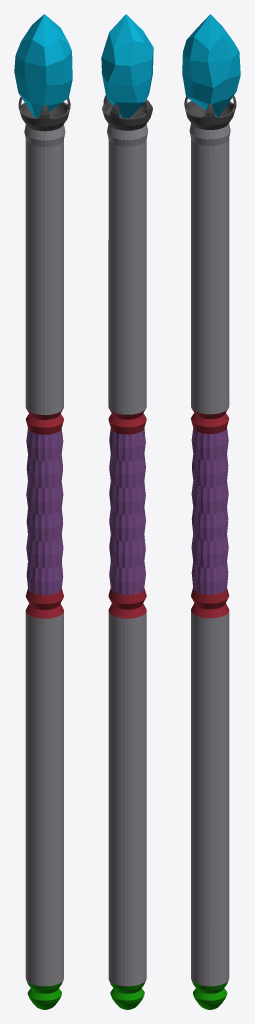
The model's file is uploads_files_887677_staff.fbx.
3 renders of one model, left to right at view 1: azimuth 90°, elevation 25°; view 2: azimuth 150°, elevation 25°; view 3: azimuth 270°, elevation 25°, orthographic.
Visible parts, largest first — view 1: Cylinder; view 2: Cylinder; view 3: Cylinder.
Part boxes in pixels (x1,y1,x2,y2): Cylinder: [14, 14, 72, 1009]; Cylinder: [101, 14, 153, 1009]; Cylinder: [182, 14, 240, 1009].
Bounding box in the file's own units: 4.59 × 90.57 × 4.82.
